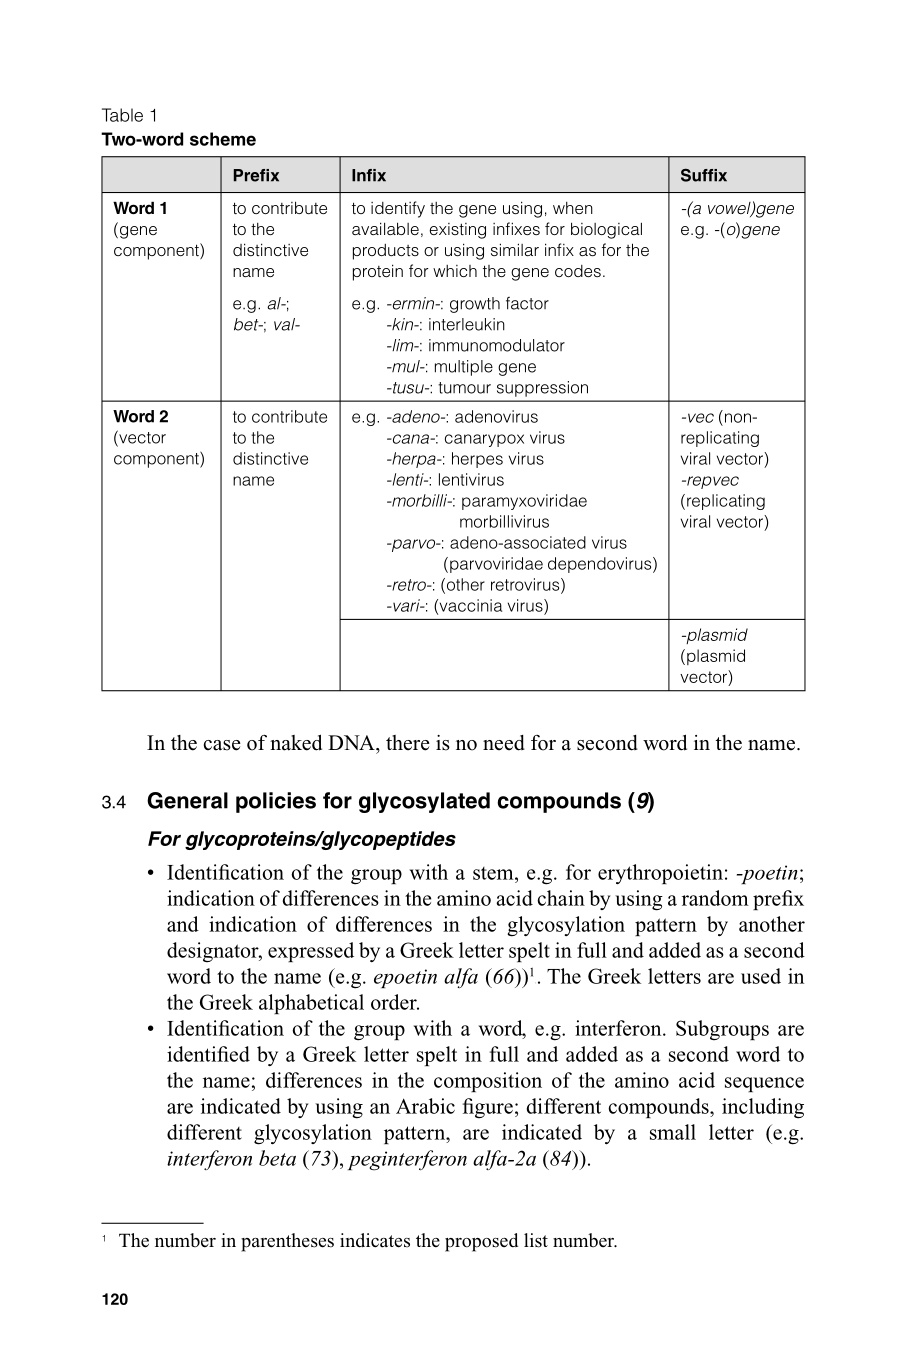merged_cells: (100, 155, 807, 693)
